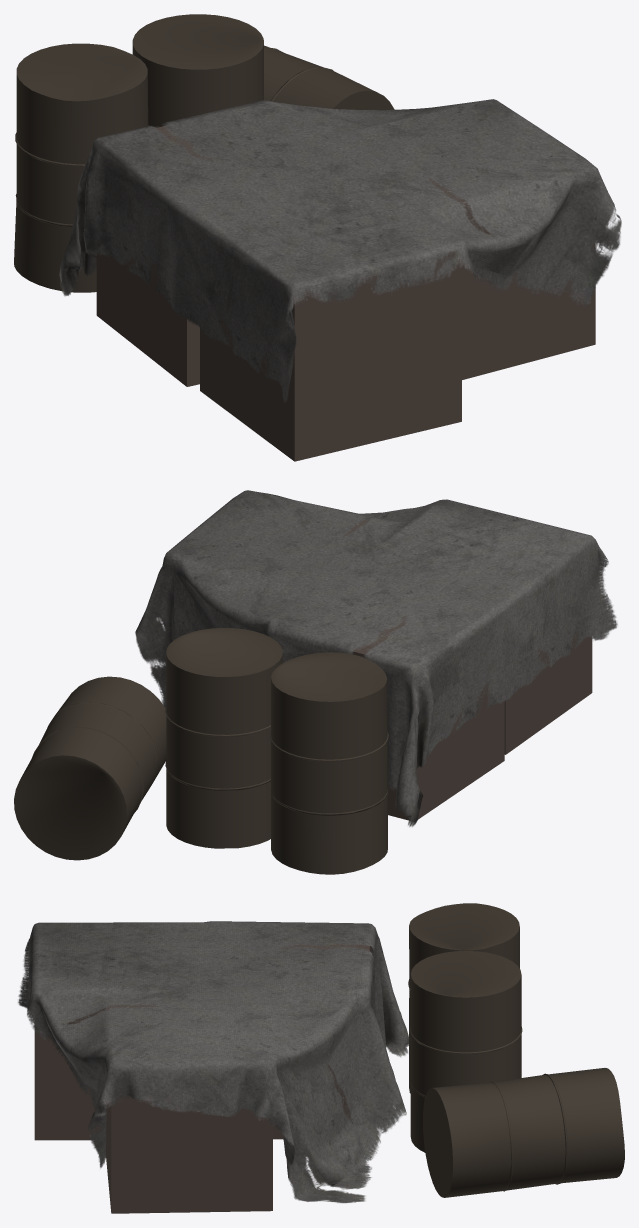
Rendered from crates-barrels.lod0.glb.
3 views of the same model, one above another, from view 1: azimuth 30°, elevation 25°; view 2: azimuth 150°, elevation 25°; view 3: azimuth 270°, elevation 25° (orthographic). The views are drawn at different scales.
Visible parts, largest first — view 1: Cloth_Cloth_0, Crate.002_Crate_0; view 2: Crate.002_Crate_0, Cloth_Cloth_0; view 3: Cloth_Cloth_0, Crate.002_Crate_0.
Boxes of the visible parts, x1,y1,x2,y2 form: Cloth_Cloth_0: [59, 99, 621, 402]; Crate.002_Crate_0: [14, 14, 595, 461]; Crate.002_Crate_0: [14, 519, 592, 874]; Cloth_Cloth_0: [135, 490, 617, 826]; Cloth_Cloth_0: [18, 921, 408, 1203]; Crate.002_Crate_0: [34, 903, 624, 1213].
Bounding box in the file's own units: 2.25 × 1.07 × 3.61.
2 materials, 1 textured.
